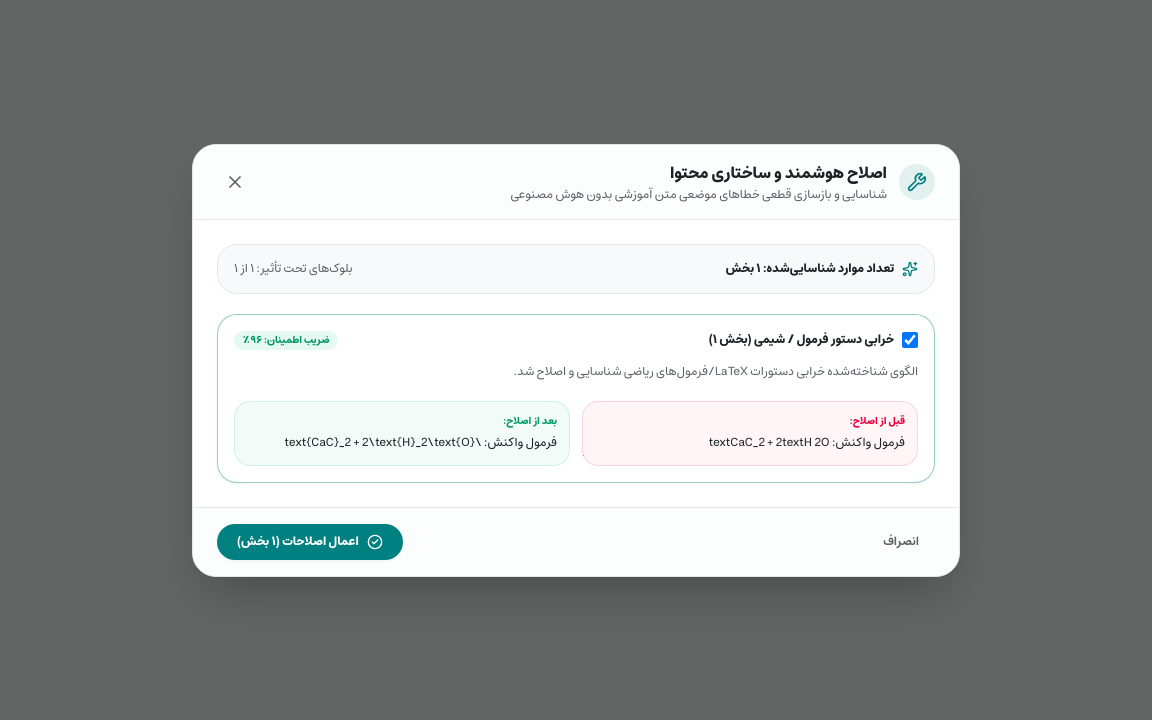
Admin Content Repair UI & Modal › 5. Displays descriptive Persian error message in modal when apply fails with DomainError / unpersisted target
The width and height of the screenshot is (1152, 720).
Click the button "اعمال اصلاحات (۱ بخش)".
click(310, 542)  # box [217,524,403,560]
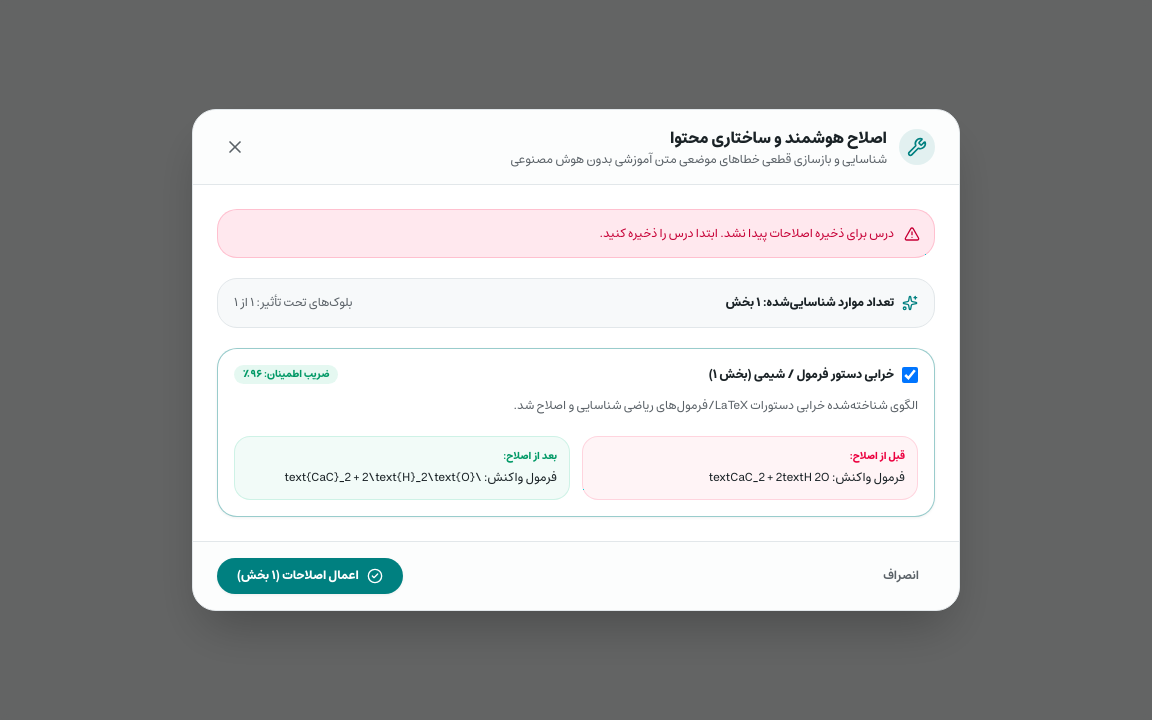
Check: the text "درس برای ذخیره اصلاحات پیدا نشد. ابتدا درس را ذخیره کنید." is shown, box [600,223,894,244]
